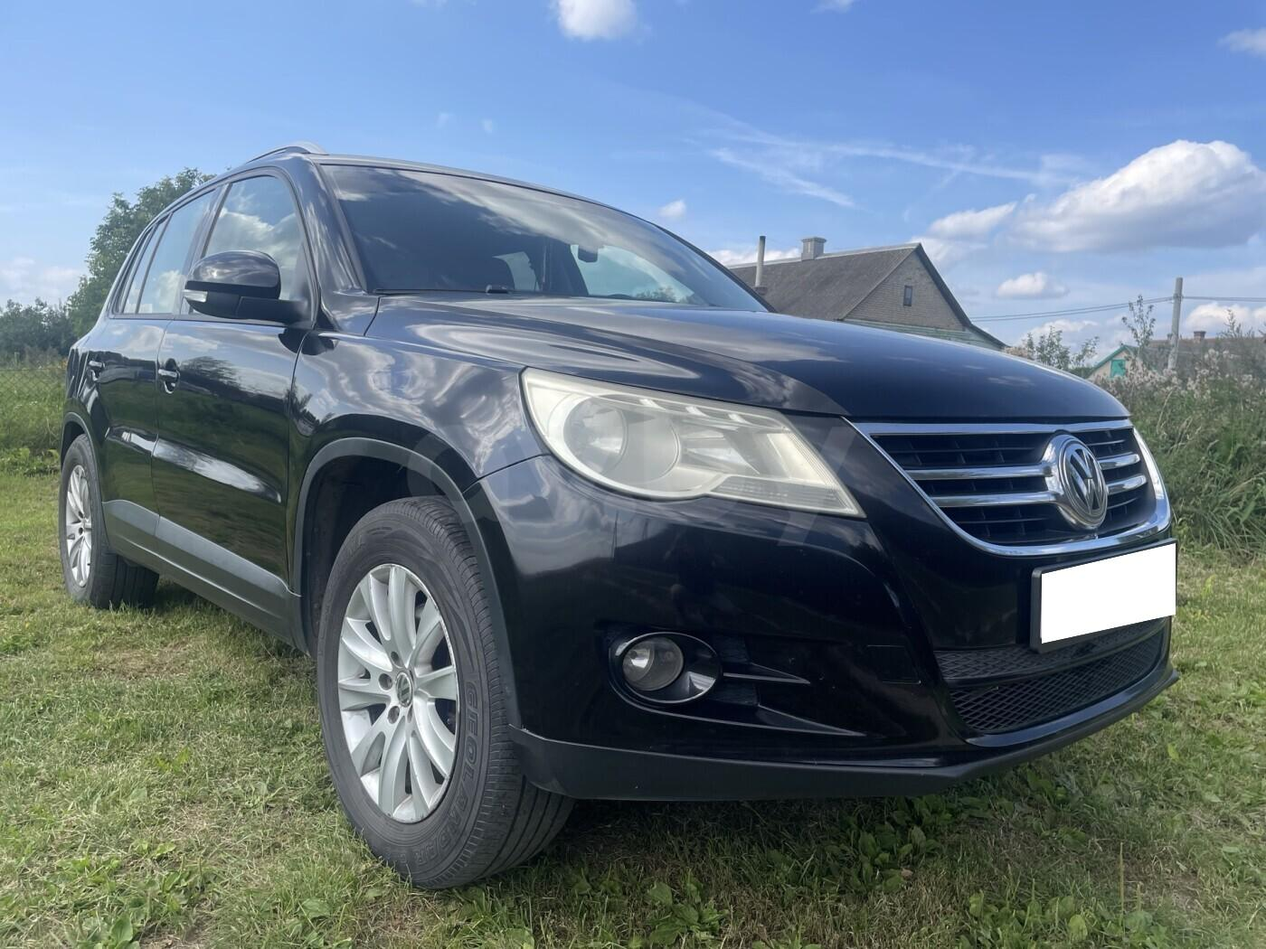Tiguan_2007-2011: (57, 147, 1183, 882)
